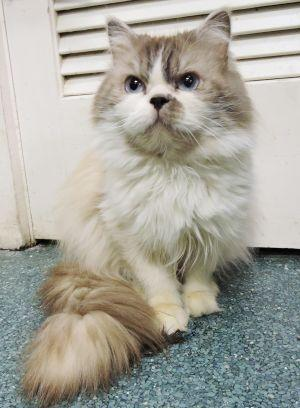persian: (82, 5, 255, 169)
